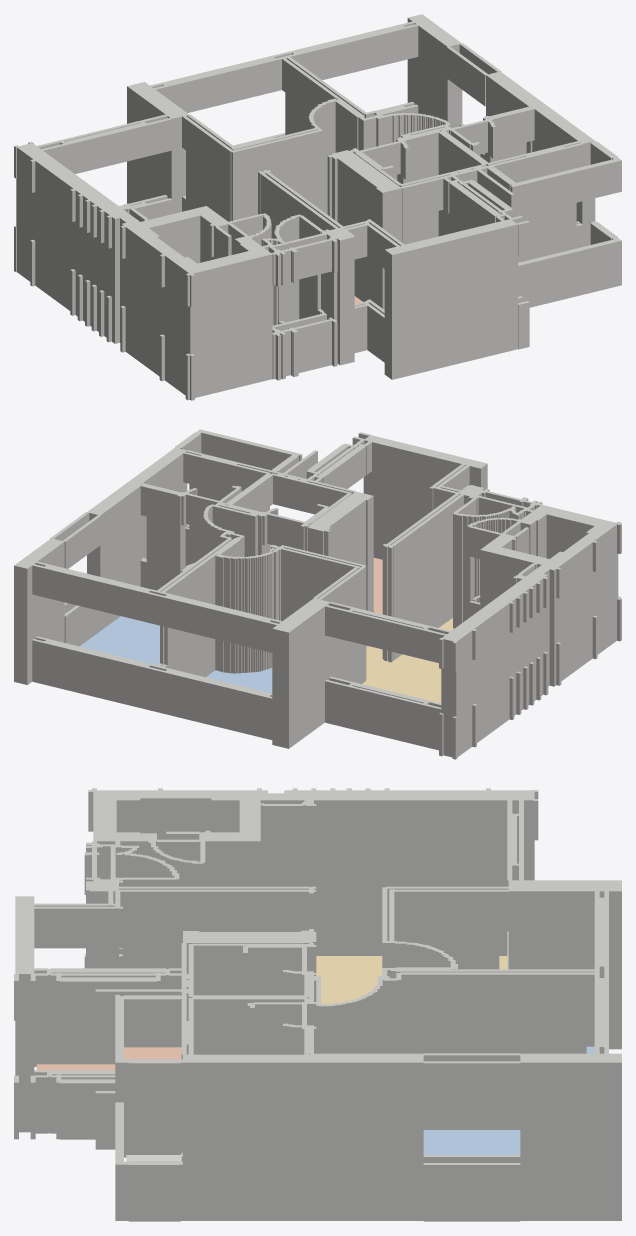
The picture shows the model from 3 angles, top to bottom: view 1: azimuth 30°, elevation 25°; view 2: azimuth 150°, elevation 25°; view 3: azimuth 270°, elevation 25°; orthographic projection. The views are drawn at different scales.
Parts seen in each view (by area): view 1: walls; view 2: walls, room:living:0, room:bedroom:2, room:bedroom:1, room:kitchen:5; view 3: walls, room:living:0, room:bedroom:2, room:kitchen:5.
Part boxes in pixels (box(x1,y1,x2,y2)): walls: box(14, 14, 621, 400); walls: box(14, 429, 621, 759); room:living:0: box(362, 618, 453, 703); room:bedroom:2: box(80, 616, 159, 665); room:bedroom:1: box(206, 668, 272, 693); room:kitchen:5: box(366, 557, 382, 647); walls: box(14, 788, 621, 1221); room:living:0: box(316, 956, 507, 1004); room:bedroom:2: box(423, 1130, 520, 1154); room:kitchen:5: box(36, 1047, 181, 1070).
Bounding box in the file's own units: 10.43 × 2.8 × 9.75.
